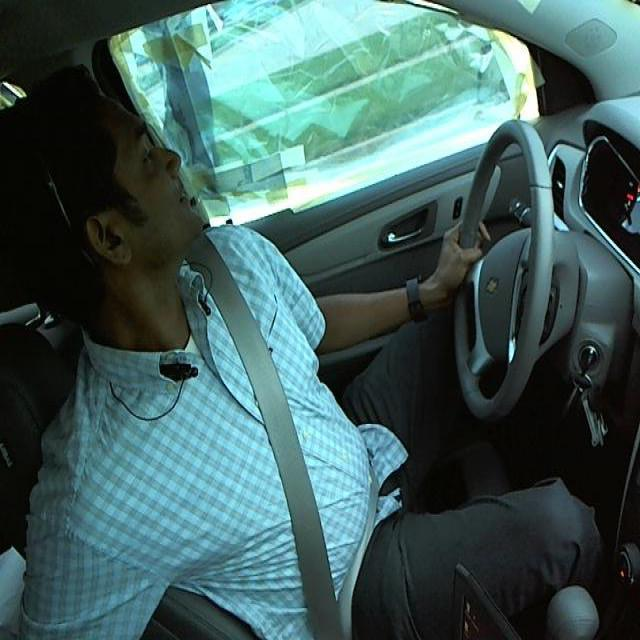seatbelt: (197, 264, 380, 625)
